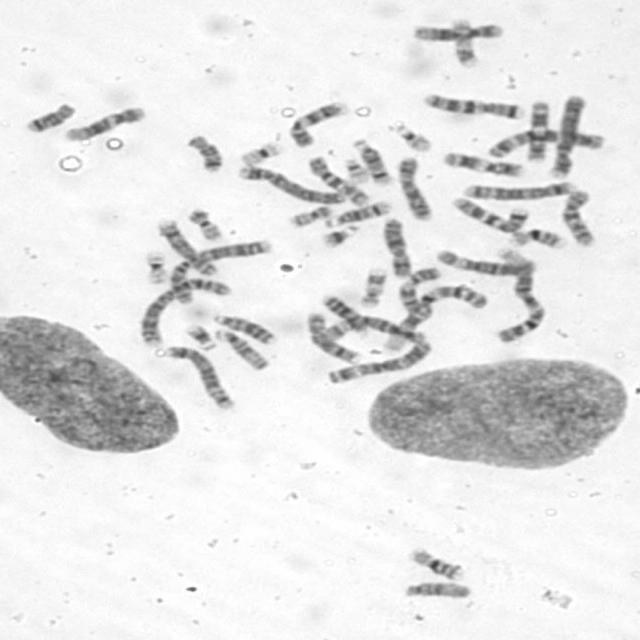A1: (383, 282, 490, 354), (495, 244, 546, 345)
A2: (167, 238, 275, 307), (136, 277, 233, 349)
A3: (324, 339, 434, 386), (486, 128, 607, 160)
B4: (236, 164, 347, 206), (546, 94, 587, 179)
B5: (166, 344, 237, 411), (462, 180, 577, 202)
C10: (308, 154, 371, 208), (558, 188, 600, 248)
C11: (440, 150, 524, 180), (525, 99, 551, 163)
C12: (63, 105, 147, 143), (410, 21, 506, 44)
C6: (318, 314, 428, 343), (434, 249, 536, 278)
C7: (450, 193, 531, 236), (423, 92, 525, 122)
C8: (156, 217, 220, 277), (304, 310, 364, 366)
C9: (286, 99, 350, 149), (397, 266, 445, 318)
D13: (320, 293, 370, 338), (213, 312, 278, 345)
D14: (321, 198, 394, 228), (351, 138, 393, 186)
D15: (215, 328, 271, 371), (401, 582, 472, 600)
E16: (405, 544, 467, 581), (508, 227, 568, 251)
E17: (447, 17, 484, 71), (357, 266, 388, 312)
E18: (181, 134, 223, 174), (25, 102, 77, 134)
F19: (239, 140, 283, 168), (141, 249, 171, 286)
F20: (185, 206, 225, 242), (289, 203, 335, 228)
G21: (318, 222, 359, 250), (184, 323, 219, 352)
G22: (394, 122, 435, 155), (342, 158, 370, 186)
X: (395, 155, 436, 223), (382, 218, 414, 278)
